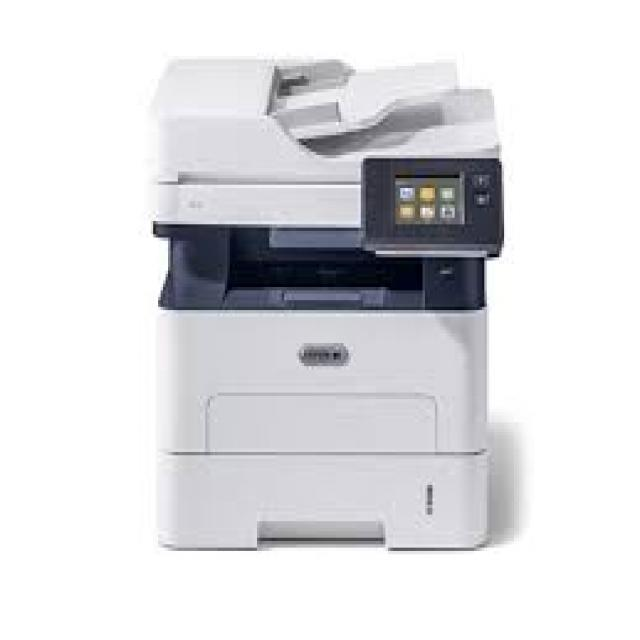printer: (140, 48, 511, 562)
